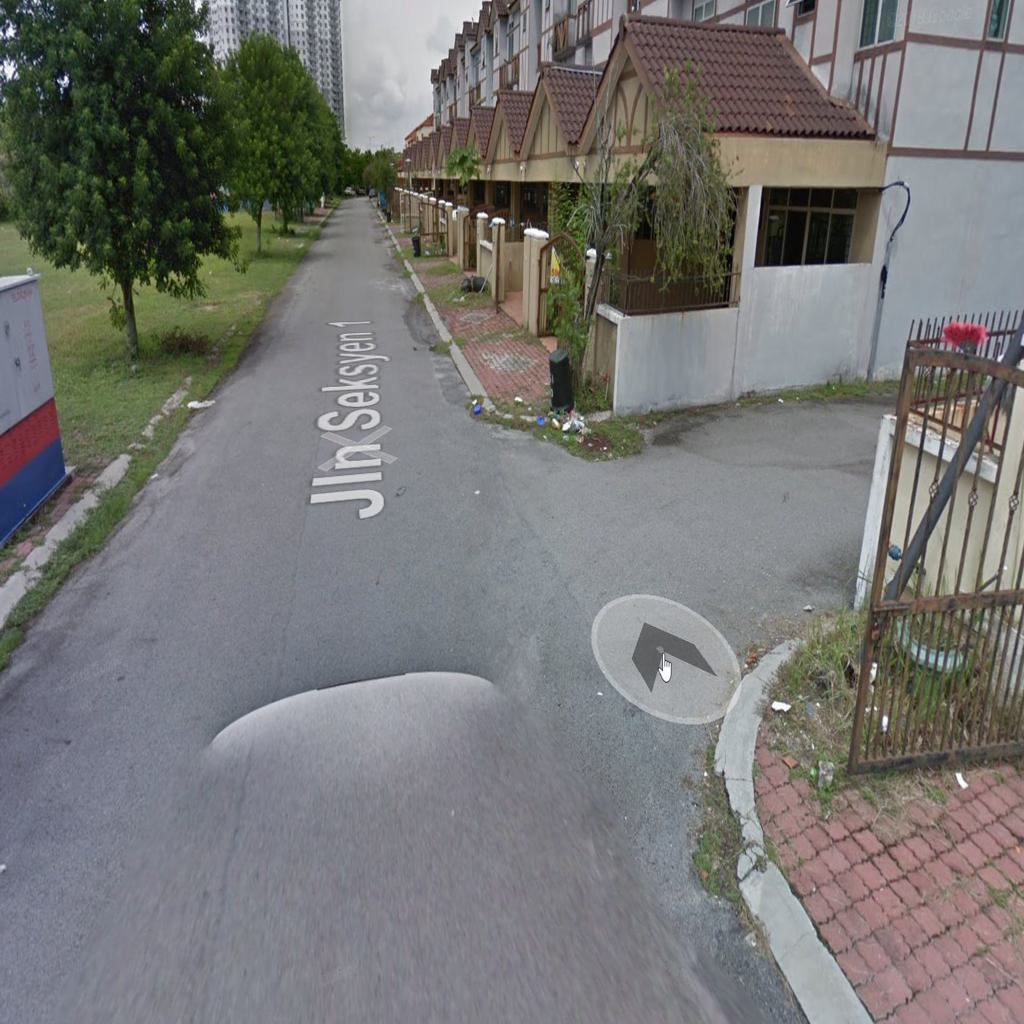Junction: (413, 355, 860, 747)
